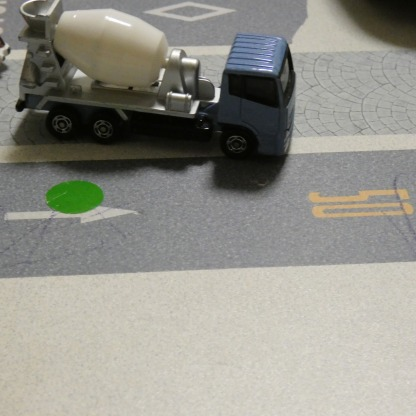car: (17, 0, 297, 166)
